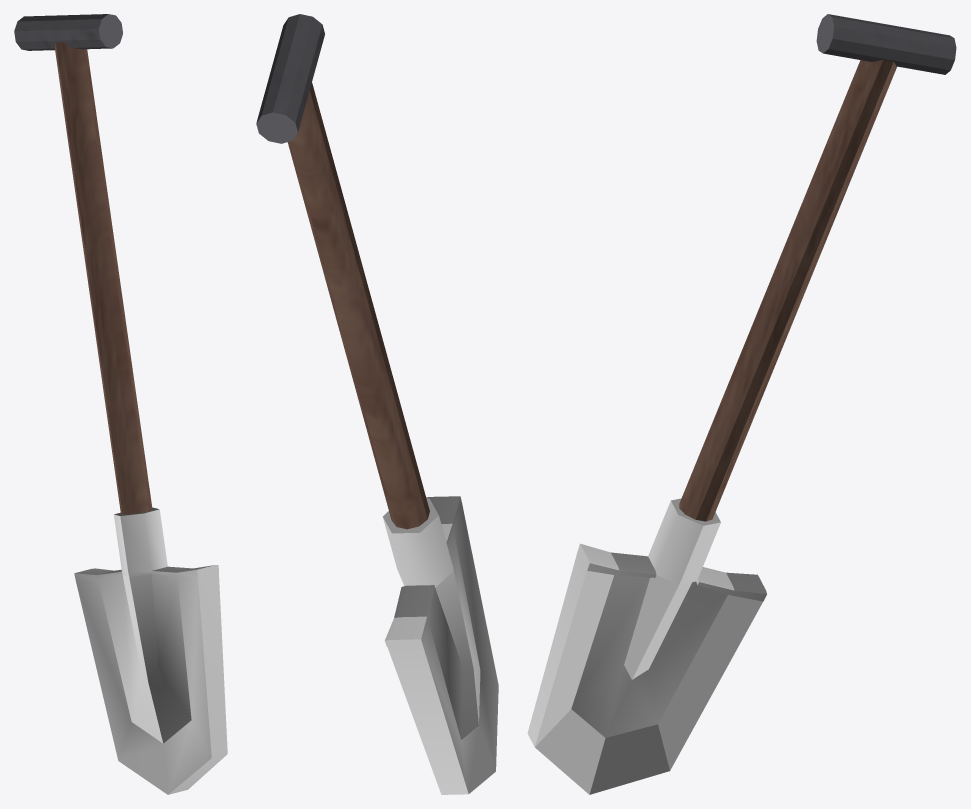
File: lopata.fbx
3 views of the same model, side by side, from view 1: azimuth 30°, elevation 25°; view 2: azimuth 150°, elevation 25°; view 3: azimuth 270°, elevation 25° (orthographic). The views are drawn at different scales.
Visible parts, largest first — view 1: Cylinder_022, Cylinder_021, Cylinder_019; view 2: Cylinder_022, Cylinder_021, Cylinder_019; view 3: Cylinder_022, Cylinder_021, Cylinder_019.
Part boxes in pixels (box(x1,y1,x2,y2)): Cylinder_022: box(74, 507, 227, 794); Cylinder_021: box(55, 42, 152, 514); Cylinder_019: box(14, 14, 122, 50); Cylinder_022: box(382, 496, 498, 794); Cylinder_021: box(287, 83, 429, 529); Cylinder_019: box(256, 14, 324, 143); Cylinder_022: box(527, 498, 766, 794); Cylinder_021: box(679, 59, 896, 521); Cylinder_019: box(816, 14, 956, 74).
Size of the model in its own units: 4.72 by 38.97 by 19.11.
